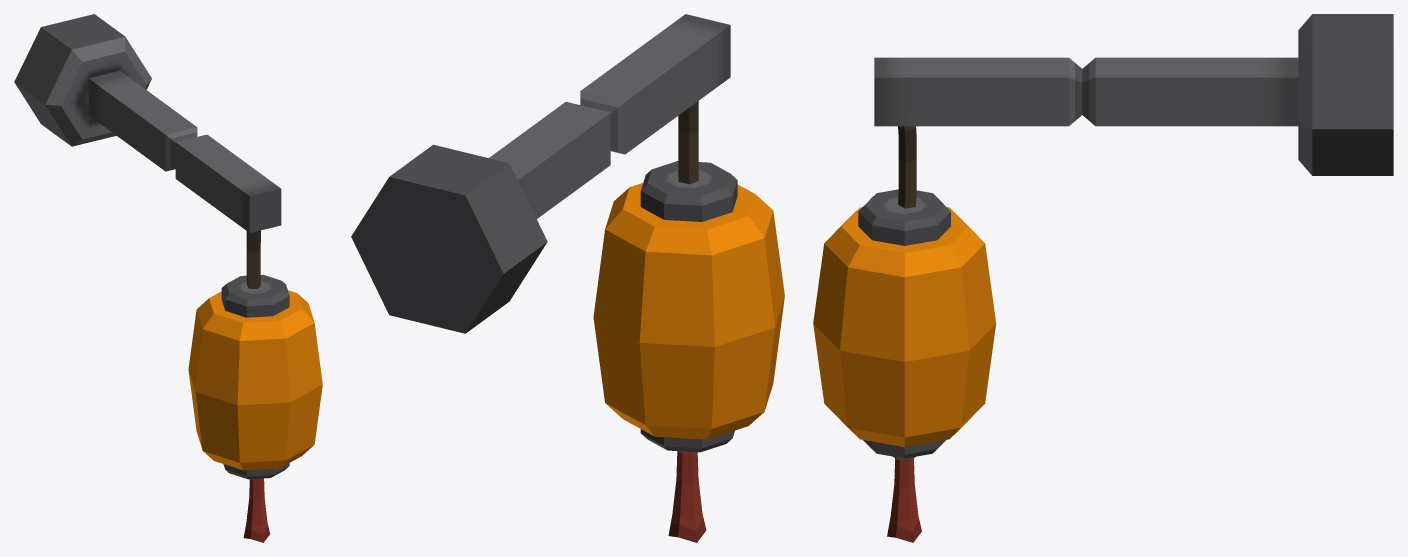
Rendered from SM_Prop_Lantern_01.fbx.
The picture shows the model from 3 angles, left to right: view 1: azimuth 30°, elevation 25°; view 2: azimuth 150°, elevation 25°; view 3: azimuth 270°, elevation 25°; orthographic projection. The views are drawn at different scales.
Parts seen in each view (by area): view 1: SM_Prop_Lantern_01; view 2: SM_Prop_Lantern_01; view 3: SM_Prop_Lantern_01.
Part boxes in pixels (<box>): SM_Prop_Lantern_01: <box>14,14,322,542</box>; SM_Prop_Lantern_01: <box>351,14,784,542</box>; SM_Prop_Lantern_01: <box>813,14,1393,542</box>.
Size of the model in its own units: 38.18 by 116 by 121.
